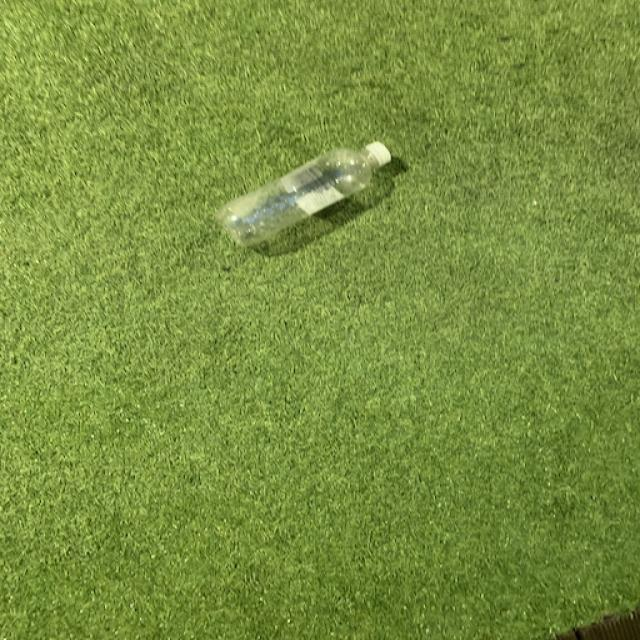litter: (218, 142, 392, 251)
